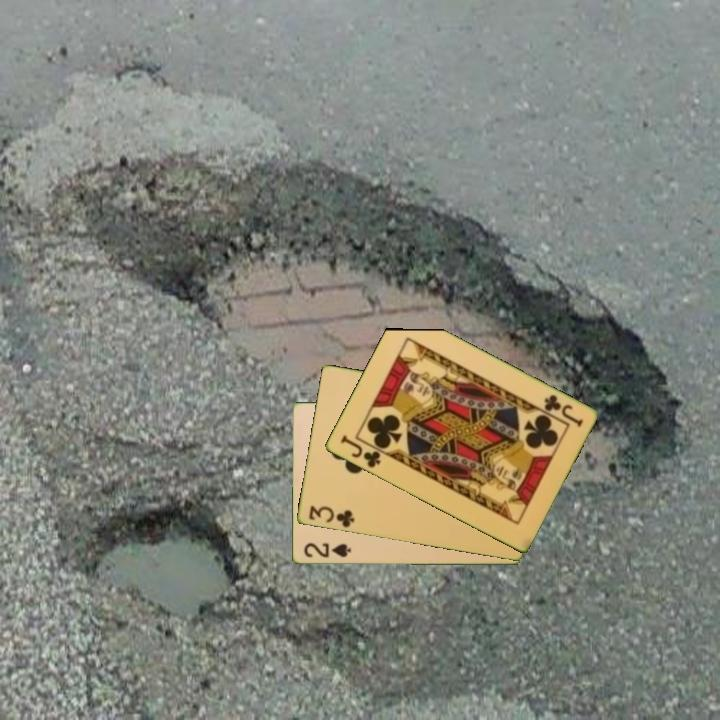2s: (300, 540, 353, 561)
3c: (305, 502, 357, 531)
Jc: (336, 432, 383, 471), (540, 391, 586, 430)
